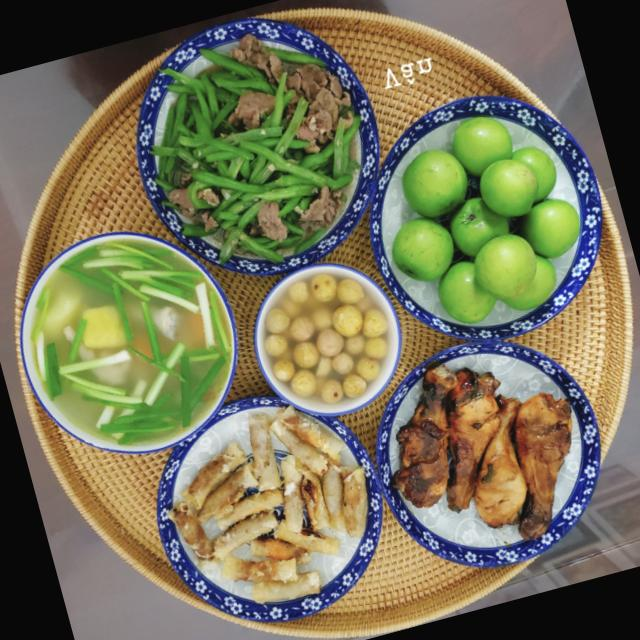bo xao: (150, 34, 360, 263)
ga chien: (393, 363, 454, 507), (514, 393, 570, 537), (444, 371, 500, 510), (473, 397, 526, 527)
